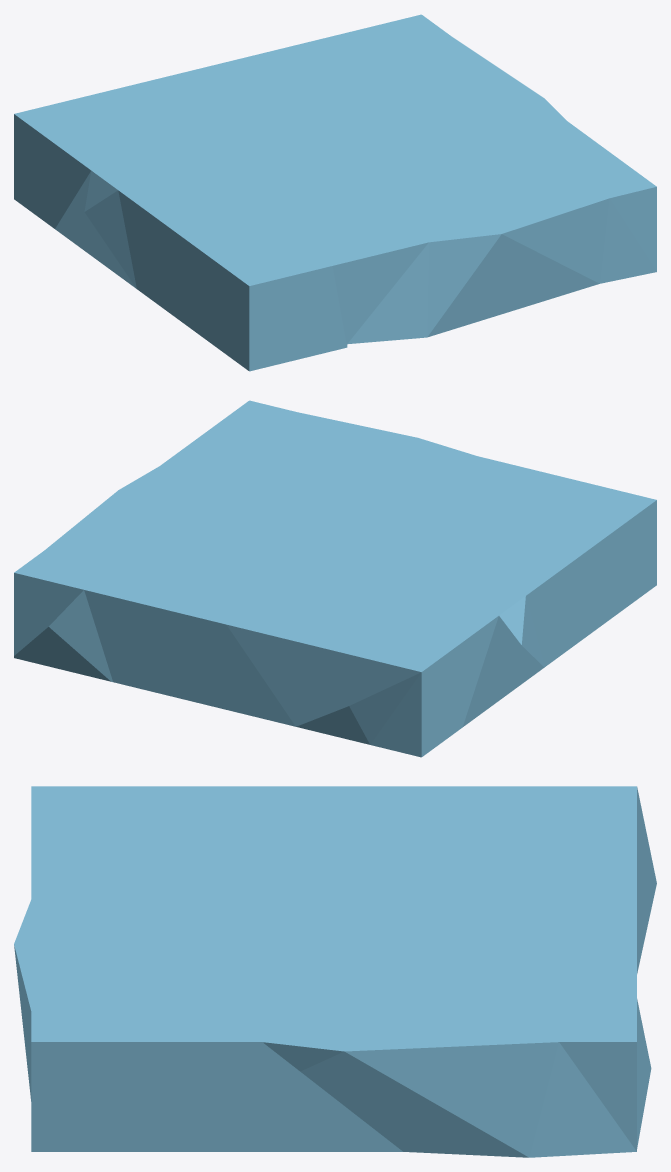
The model's file is mid_slice.fbx.
3 views of the same model, one above another, from view 1: azimuth 30°, elevation 25°; view 2: azimuth 150°, elevation 25°; view 3: azimuth 270°, elevation 25° (orthographic). The views are drawn at different scales.
Visible parts, largest first — view 1: Cube.001; view 2: Cube.001; view 3: Cube.001.
Part boxes in pixels (x1,y1,x2,y2): Cube.001: (14, 14, 656, 371); Cube.001: (14, 400, 656, 757); Cube.001: (14, 786, 656, 1157).
Size of the model in its own units: 212 by 42.8 by 212.
